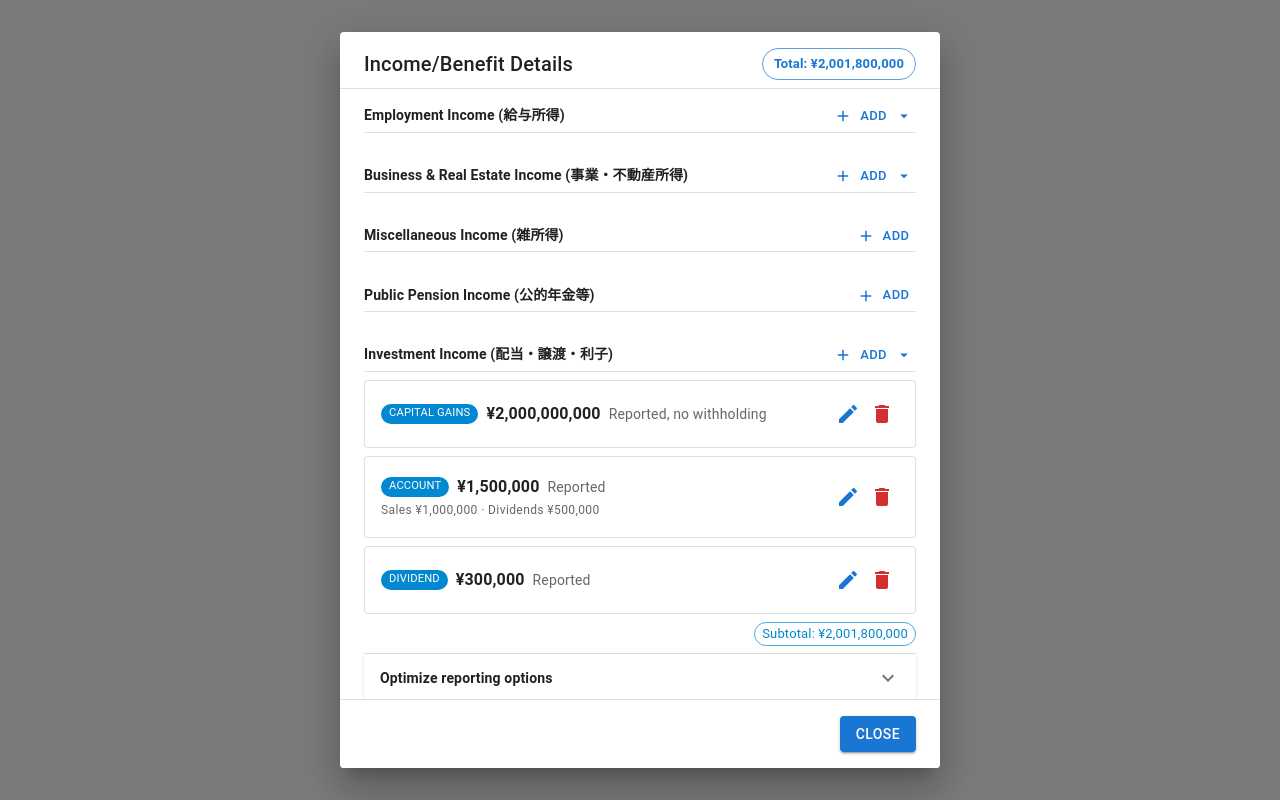
Test: IncomeDetailsModal - Investment Income › displays Reported for withholding accounts and dividends when minimum tax applies to the calculation inputs
The image size is (1280, 800).
Expected: the text "Withheld only" is not shown
Expected: the text "Reported, no withholding" is shown, [609,404,767,424]
Click the button named "edit income" in the row of "¥500,000" at (848, 497), box [831,480,865,514]
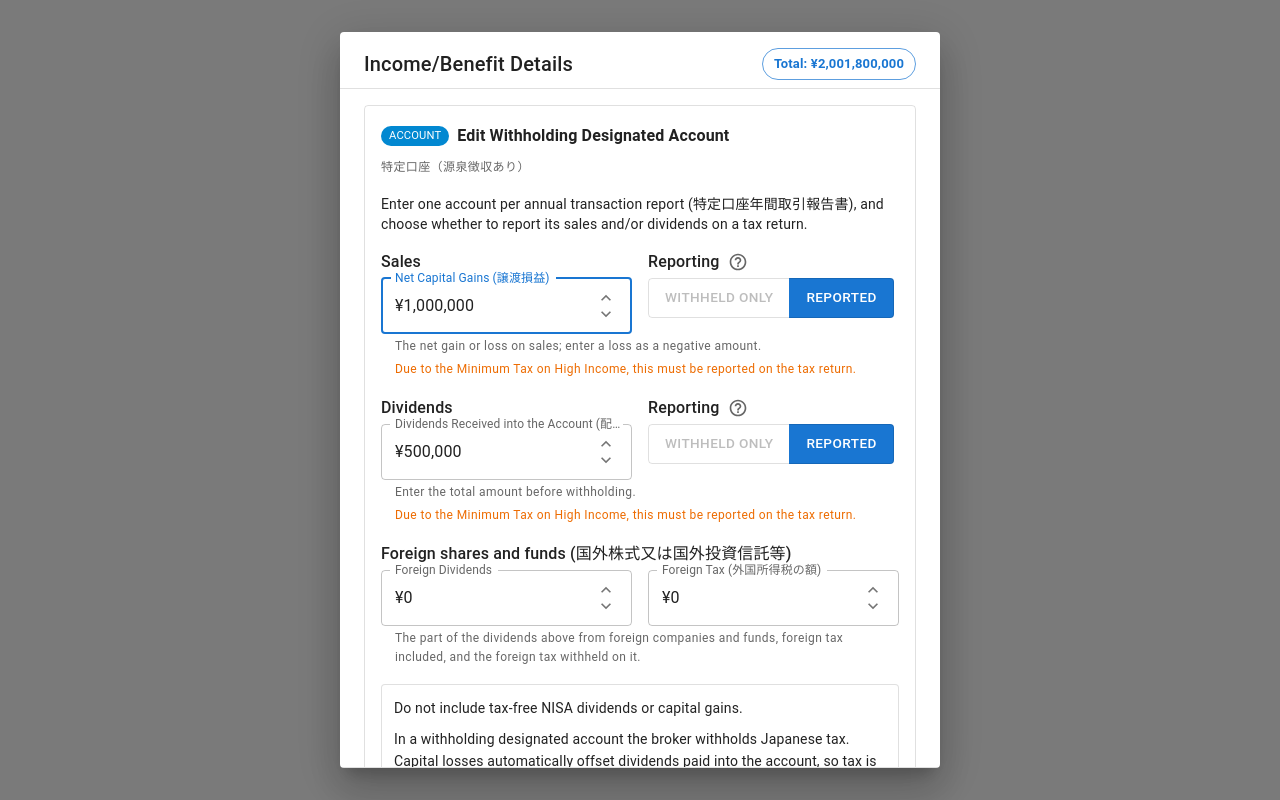
Result: the heading "Edit Withholding Designated Account" is shown at [457,122,729,150]
Result: the button "Withheld only" next to "Net Capital Gains (譲渡損益)" is disabled at [648,278,790,318]
Result: the text "Due to the Minimum Tax on High Income, this must be reported on the tax return." is shown 2 times at [395,360,885,380]; [395,506,885,526]
